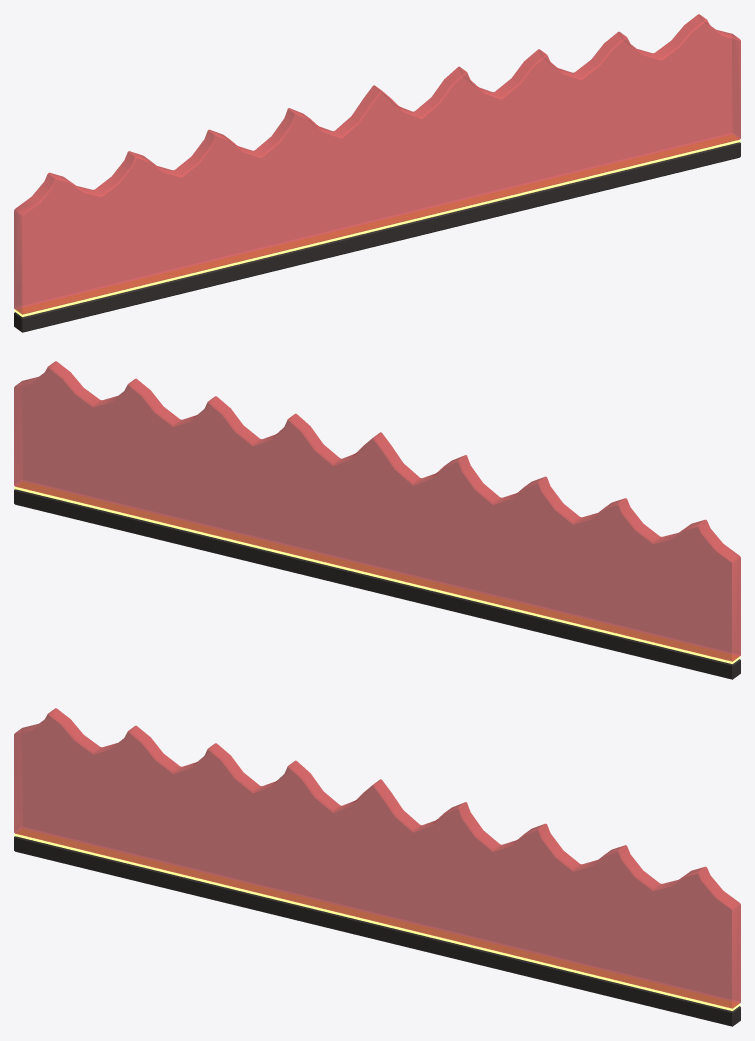
File: rabatoire_bas_gauche_Modele.fbx
The picture shows the model from 3 angles, top to bottom: view 1: azimuth 30°, elevation 25°; view 2: azimuth 150°, elevation 25°; view 3: azimuth 330°, elevation 25°; orthographic projection.
Parts seen in each view (by area): view 1: rabatoire_bas_gauche_Modele; view 2: rabatoire_bas_gauche_Modele; view 3: rabatoire_bas_gauche_Modele.
Boxes of the visible parts, x1,y1,x2,y2 form: rabatoire_bas_gauche_Modele: (14, 14, 740, 332); rabatoire_bas_gauche_Modele: (14, 361, 740, 679); rabatoire_bas_gauche_Modele: (14, 708, 740, 1026).
Bounding box in the file's own units: 4.85 × 0.9946 × 0.1.
